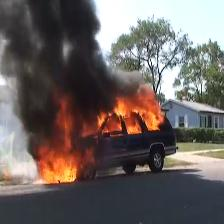fire: (33, 96, 98, 183), (99, 84, 166, 135)
